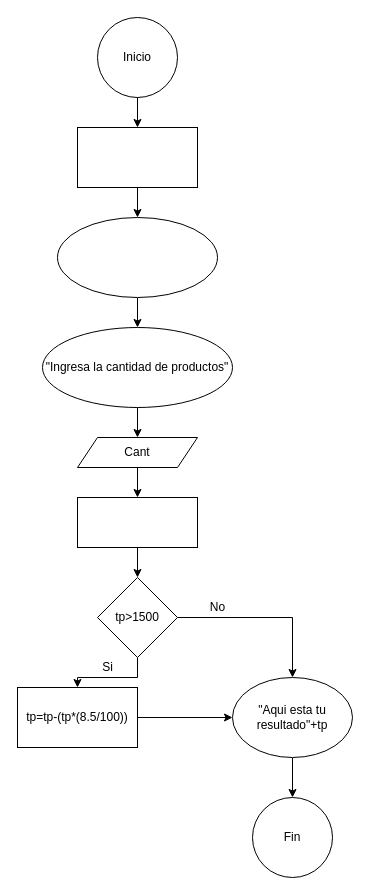
This 370x895 diagram has some shape labels left out. The centre of each missing label's shape, as x and y in pixels:
"Programa que calcula una cierta cantidad de productos": (x=137, y=257)
Cant=0.0 tp=0.0: (x=137, y=157)
tp=Cant*3: (x=137, y=522)
